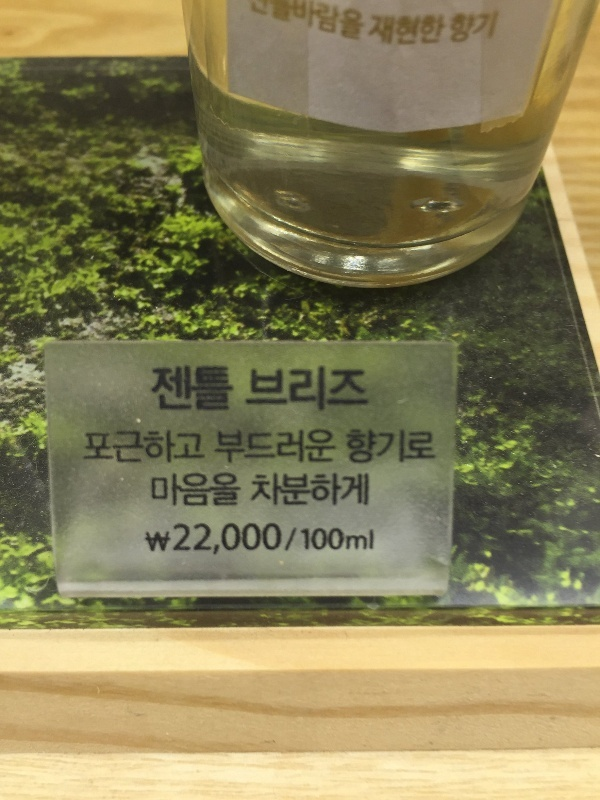text: (161, 364, 176, 415), (177, 364, 192, 415), (193, 364, 208, 415), (209, 364, 224, 415), (257, 363, 272, 414), (273, 363, 288, 414), (289, 363, 304, 414), (305, 363, 320, 414), (321, 363, 336, 414), (337, 363, 352, 414), (353, 363, 368, 414), (321, 1, 336, 46), (337, 1, 352, 46), (353, 424, 368, 468), (369, 424, 384, 468), (385, 424, 400, 468), (401, 424, 416, 468), (417, 424, 432, 468), (225, 425, 240, 468), (241, 425, 256, 468), (257, 425, 272, 468), (273, 425, 288, 468), (289, 425, 304, 468), (305, 425, 320, 468), (321, 425, 336, 468), (433, 10, 449, 49), (161, 469, 176, 509), (177, 469, 192, 509), (193, 469, 208, 509), (209, 469, 224, 509), (225, 469, 240, 509), (257, 469, 272, 509), (273, 469, 288, 509), (289, 469, 304, 509), (305, 469, 320, 509), (321, 469, 336, 509), (337, 469, 352, 509), (353, 469, 368, 509), (97, 428, 112, 468), (113, 428, 128, 468), (129, 428, 144, 468), (145, 428, 160, 468), (161, 428, 176, 468), (177, 428, 192, 468), (145, 522, 160, 561), (161, 522, 176, 561), (177, 522, 192, 561), (193, 522, 208, 561), (209, 522, 224, 561), (225, 522, 240, 561), (241, 522, 256, 561), (257, 522, 272, 561), (273, 522, 288, 561), (289, 522, 304, 561), (305, 522, 320, 561), (321, 522, 336, 561), (337, 522, 352, 561), (353, 522, 368, 561), (369, 10, 384, 49), (385, 10, 400, 49), (401, 10, 416, 49), (417, 10, 432, 49), (353, 1, 366, 46), (193, 428, 207, 468), (83, 428, 96, 468), (150, 364, 160, 415), (225, 364, 235, 415), (214, 425, 224, 468), (151, 469, 160, 509), (369, 522, 378, 561), (345, 424, 352, 468), (250, 363, 256, 414), (250, 469, 256, 509), (315, 1, 320, 46), (433, 424, 437, 468), (369, 469, 371, 509), (142, 522, 144, 561), (369, 363, 370, 414), (337, 425, 338, 468), (241, 469, 242, 509)
